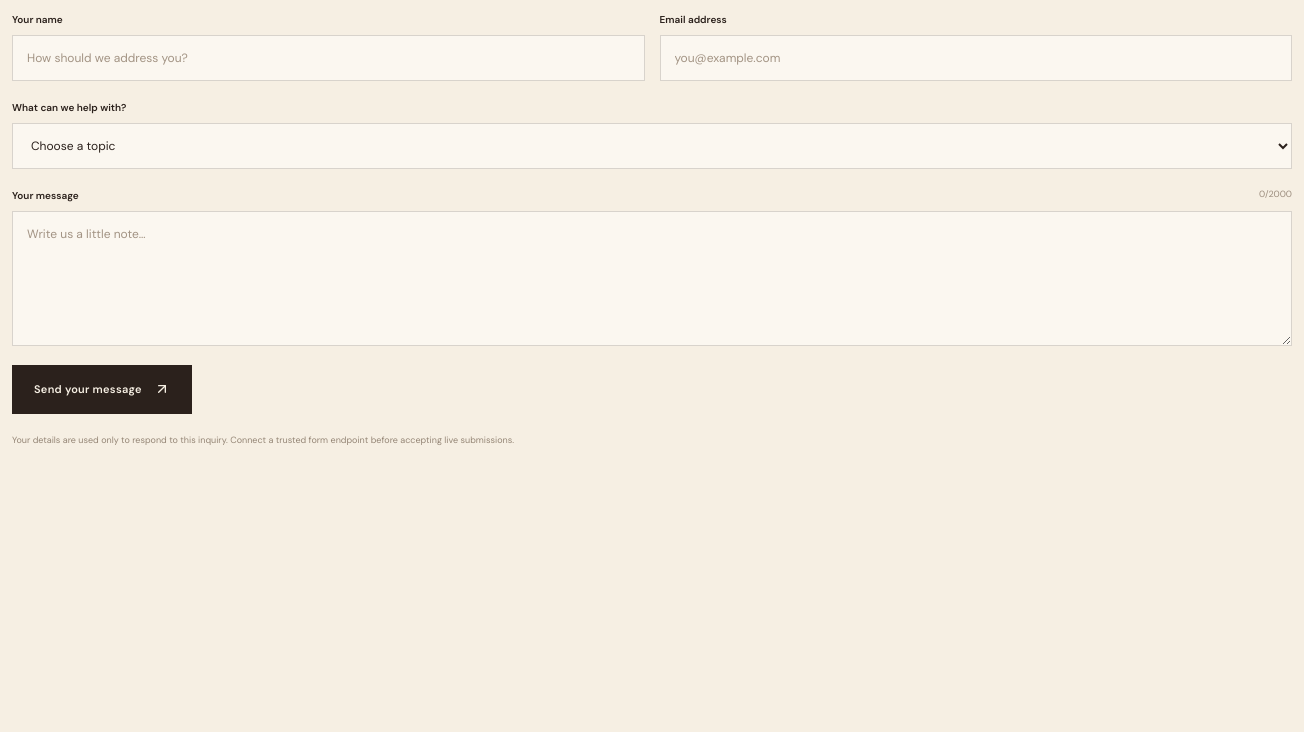
Test: contact form › shows an error state if the endpoint fails
Type "Sam" into the field labelled "Your name" at (328, 58), box [12,35,644,81]
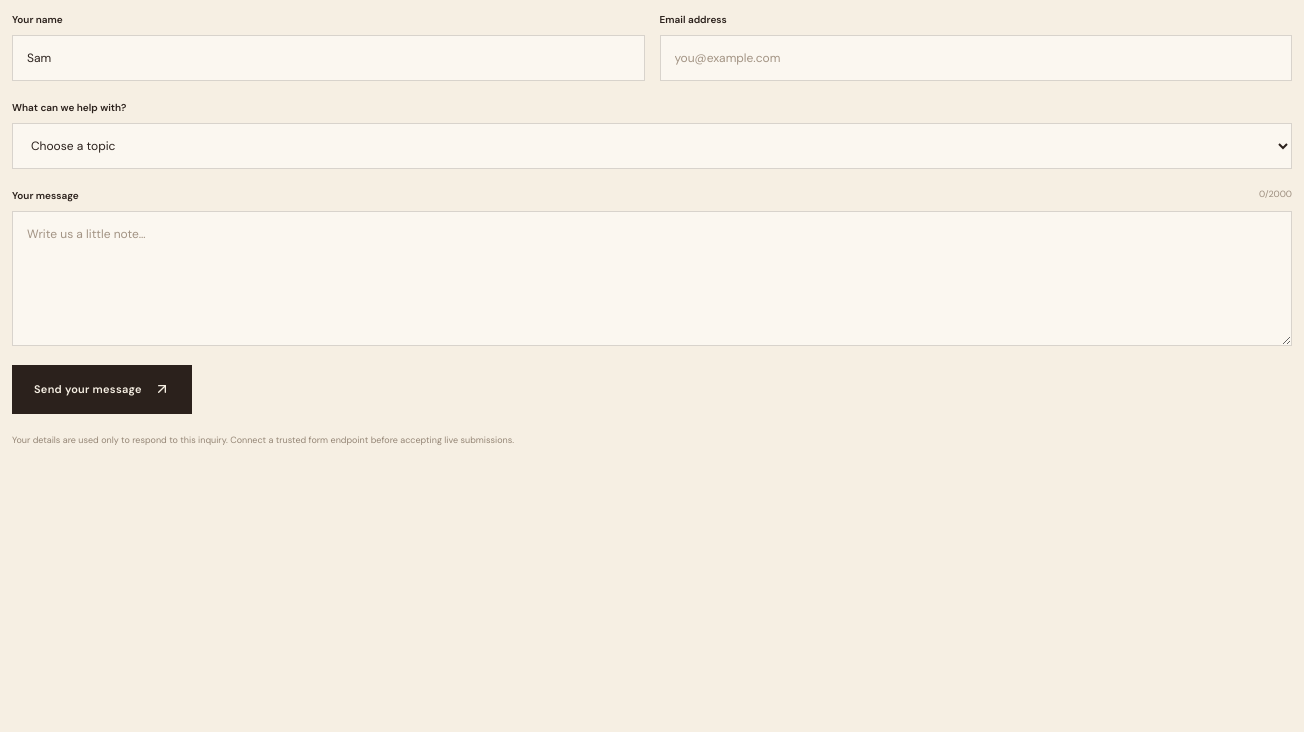
Type "sam@example.com" into the field labelled "Email address" at (976, 58), box [660,35,1292,81]
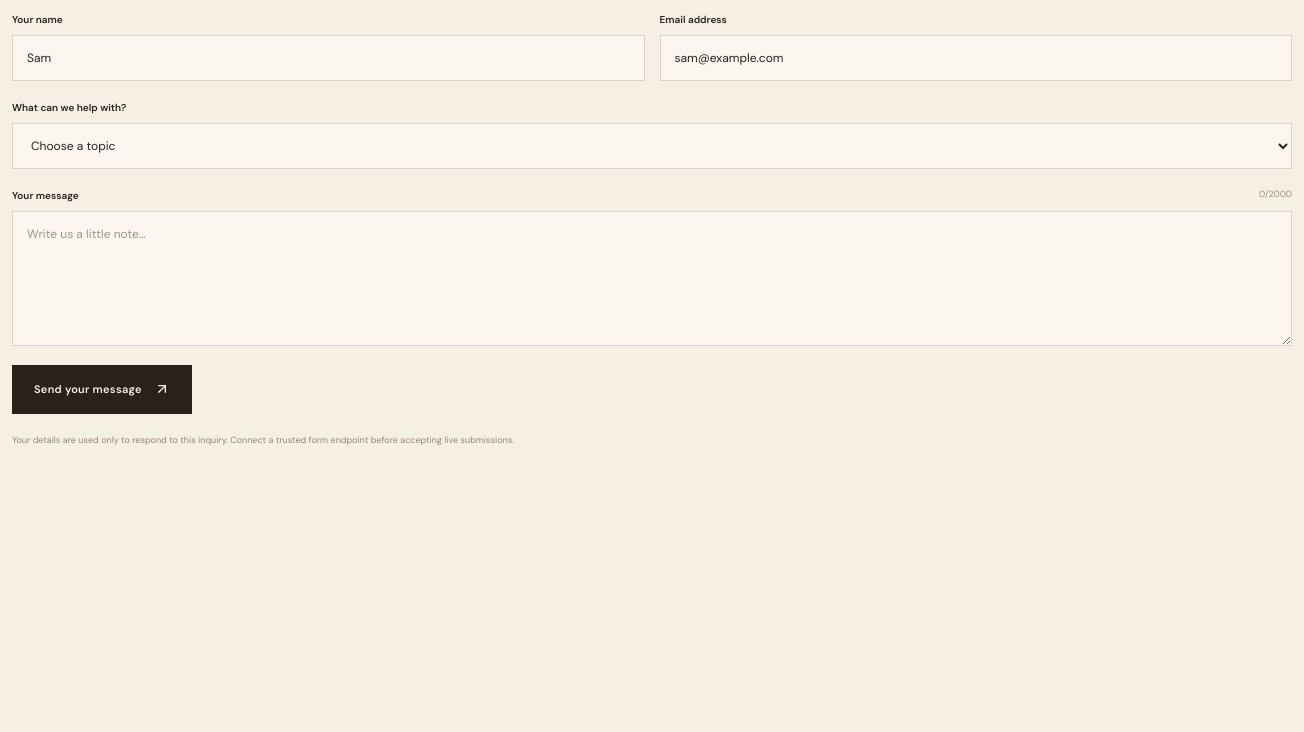
Select "Menu question" in the dropdown labelled "What can we help with?" at (652, 146), box [12,123,1292,169]
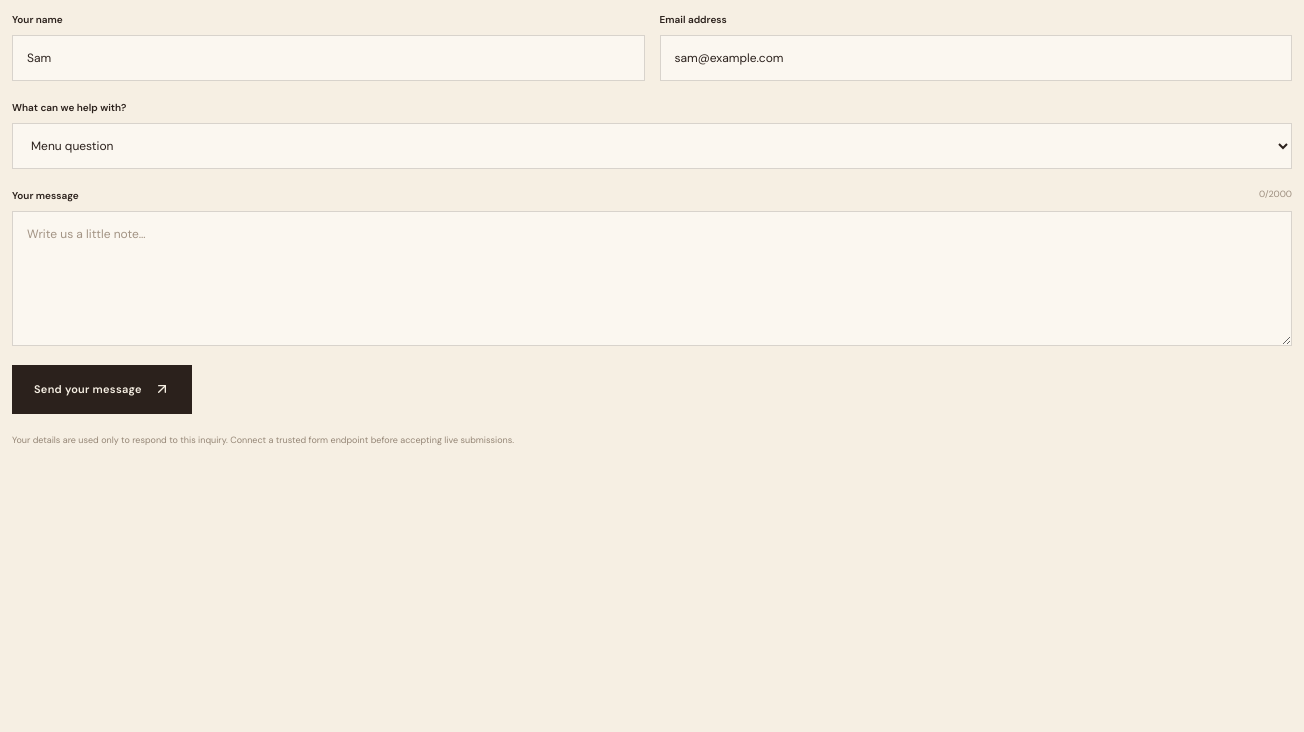
Type "Can you tell me about your coffee menu?" into the text box labelled "Your message" at (652, 278), box [12,211,1292,346]
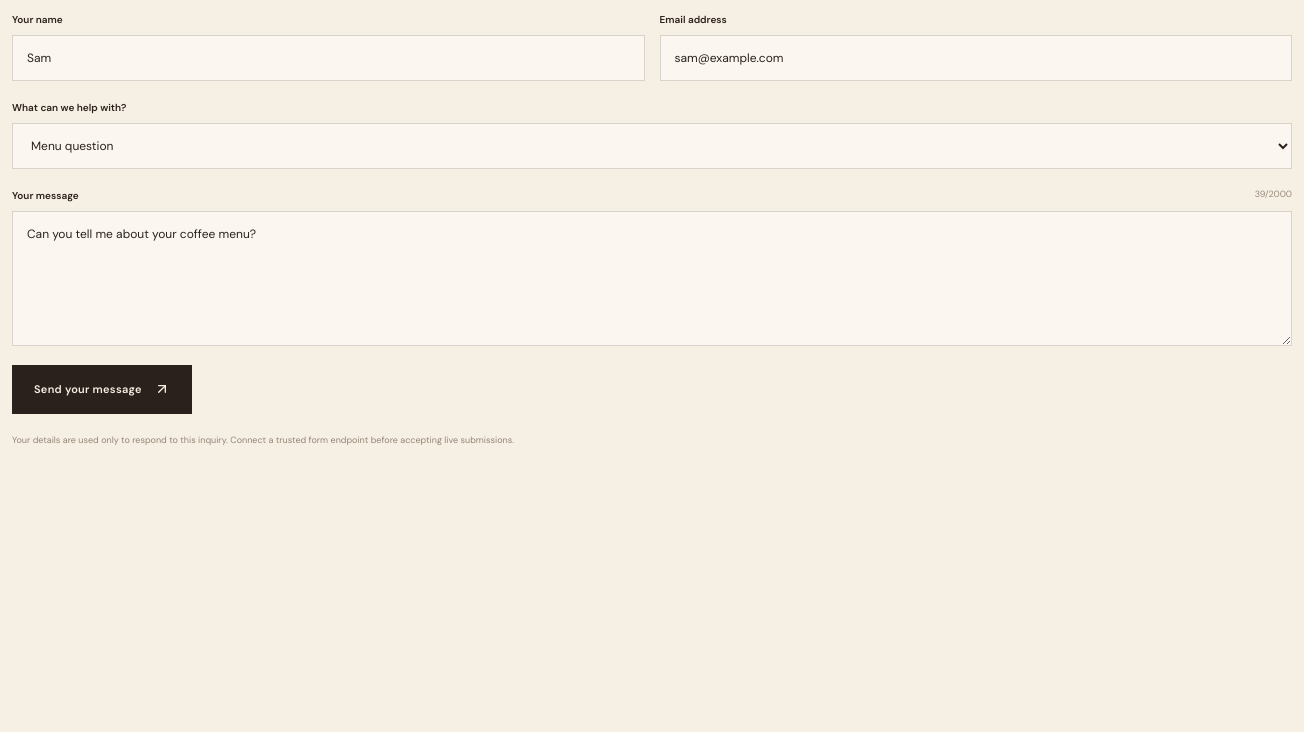
Click the button "Send your message" at (102, 389), box [12,365,192,414]
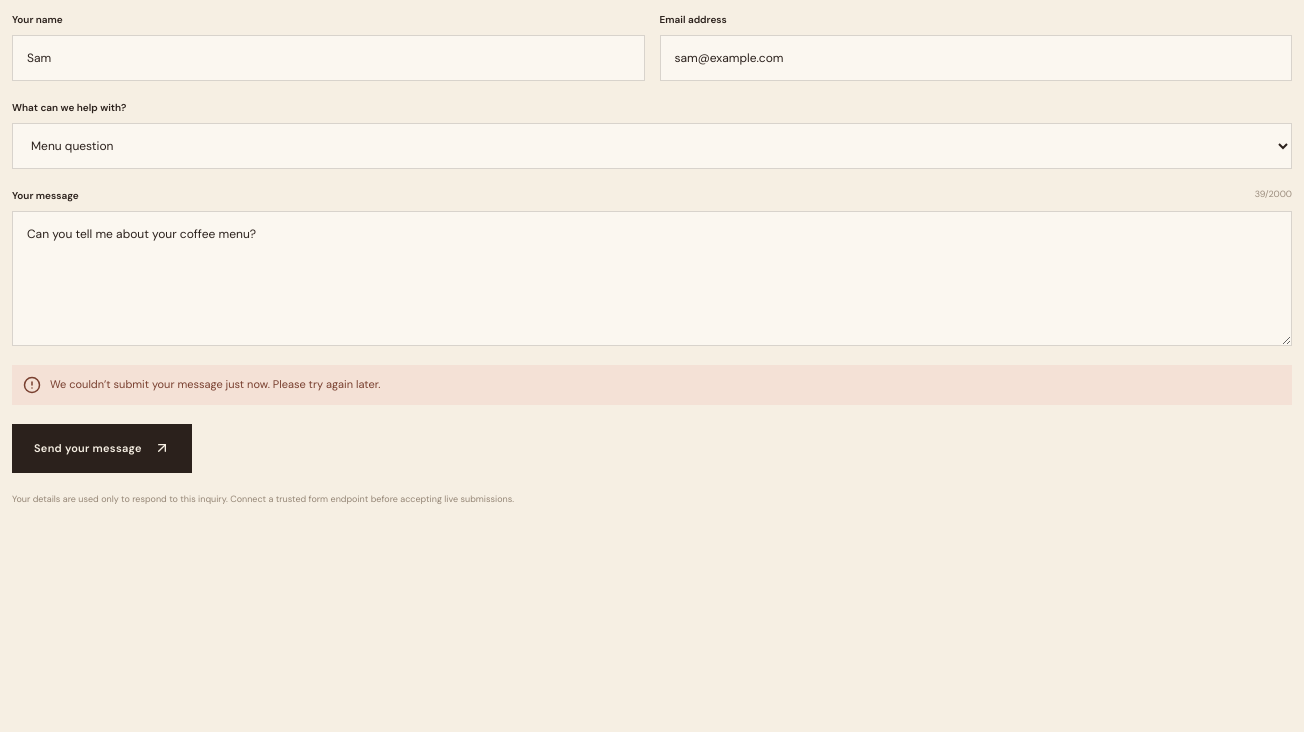
Result: the message shows "couldn’t submit" at [50,377,380,391]
